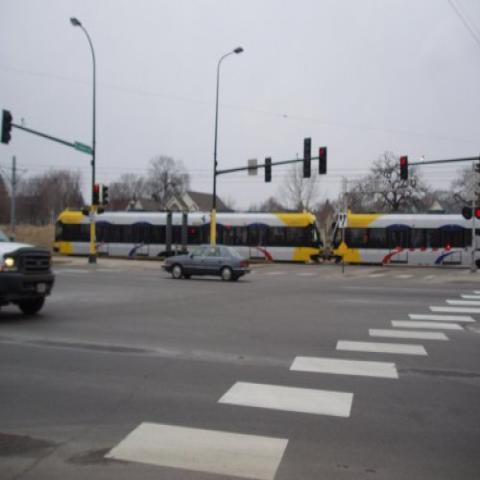car: (165, 245, 248, 280)
truck: (0, 229, 56, 317)
